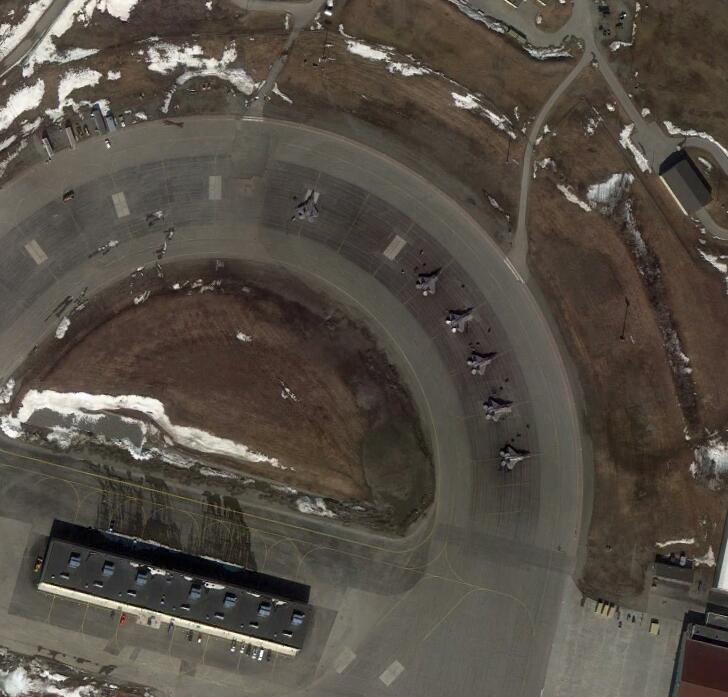A15: (481, 395, 517, 425), (500, 444, 538, 471), (467, 350, 502, 377), (448, 303, 479, 332), (416, 264, 443, 297), (298, 189, 320, 224)
